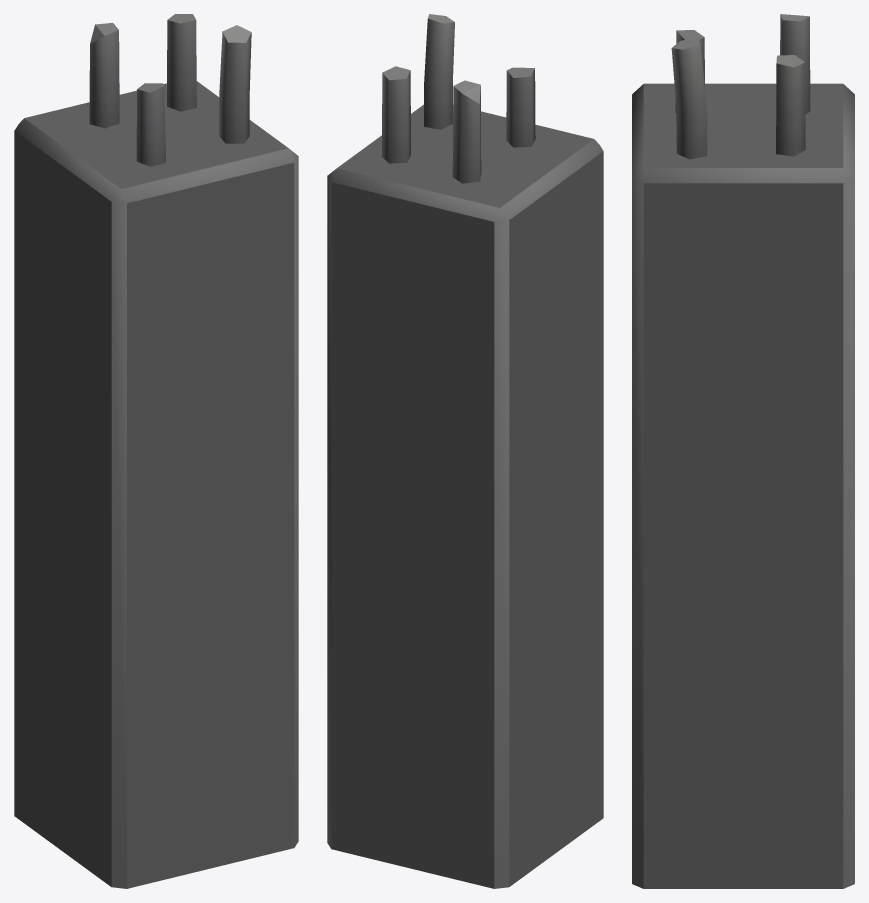
The model's file is Pilar_B_2.fbx.
3 renders of one model, left to right at view 1: azimuth 30°, elevation 25°; view 2: azimuth 150°, elevation 25°; view 3: azimuth 270°, elevation 25°, orthographic. The views are drawn at different scales.
Parts seen in each view (by area): view 1: Pilar_B_2; view 2: Pilar_B_2; view 3: Pilar_B_2.
Boxes of the visible parts, bbox=[...] form: Pilar_B_2: bbox=[14, 14, 298, 888]; Pilar_B_2: bbox=[327, 14, 603, 888]; Pilar_B_2: bbox=[632, 14, 854, 888].
Bounding box in the file's own units: 54.96 × 226 × 55.1.
